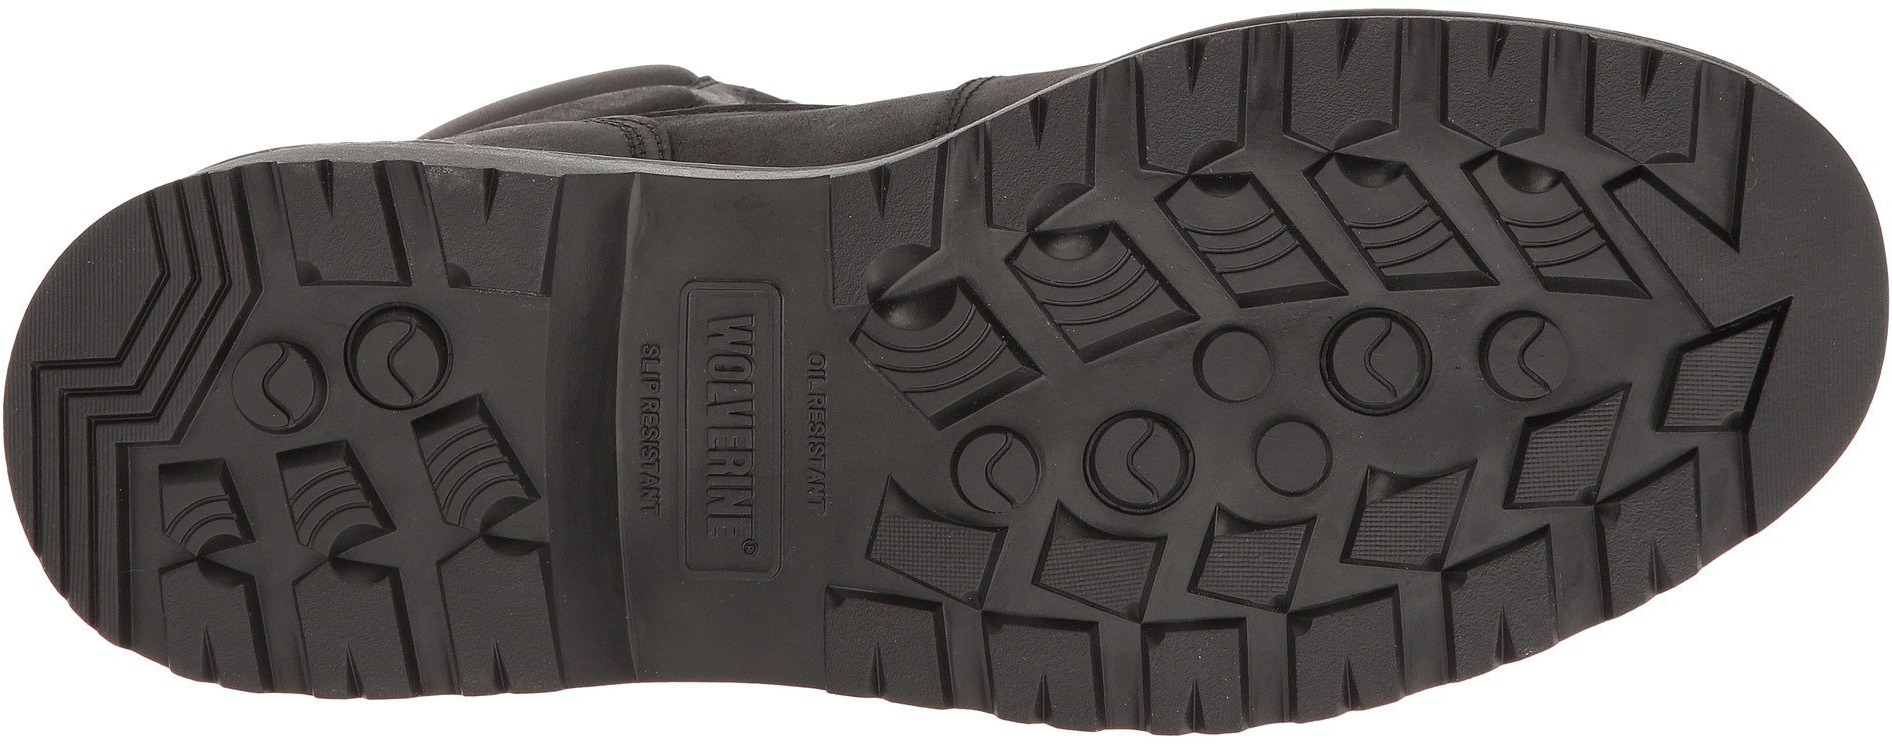chevron: (8, 341, 159, 484), (378, 301, 439, 406), (1360, 316, 1407, 405)
circle: (1166, 330, 1356, 508), (335, 289, 471, 429), (1309, 301, 1433, 433)
exclude: (548, 87, 977, 742)
text: (627, 293, 845, 482), (687, 488, 776, 578)
